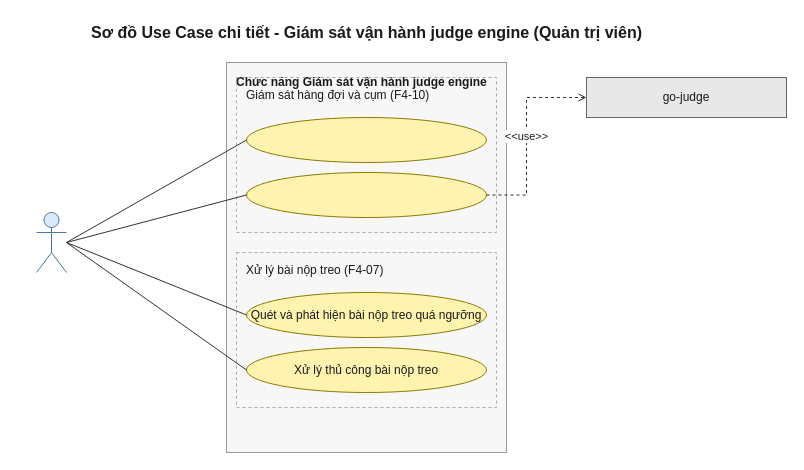
This 804x470 diagram has some shape labels left out. Each missing label, with the centre of its shape:
"Quản trị viên" goes at [51,242].
"Xem trạng thái hàng đợi chấm bài" goes at [366,139].
"Xem tình trạng cụm judge engine" goes at [366,195].
